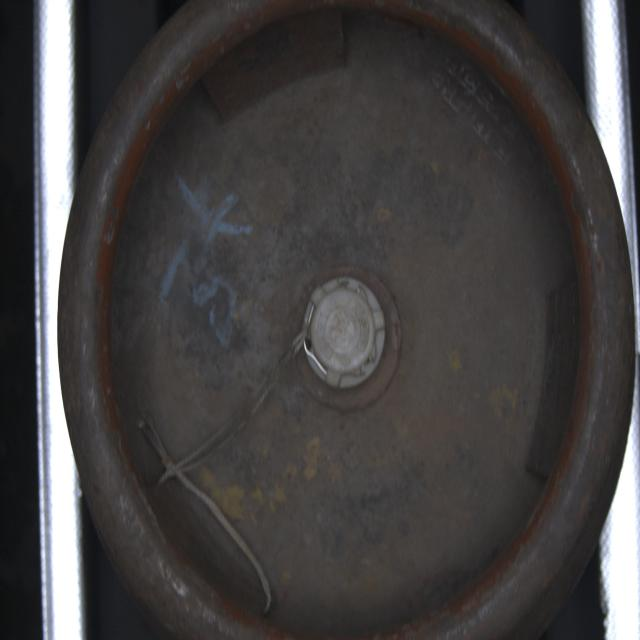Cap: (299, 273, 388, 394)
